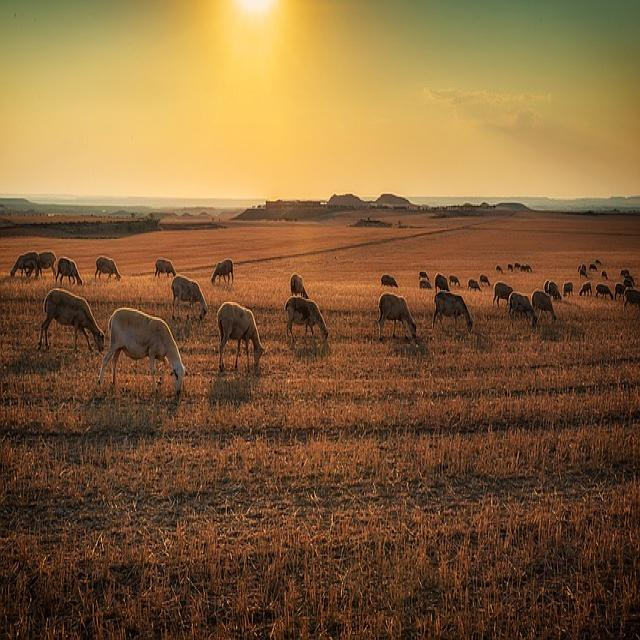goat: (99, 308, 185, 393), (38, 289, 104, 351), (219, 302, 264, 371), (285, 297, 328, 339), (379, 293, 416, 339), (433, 291, 472, 331), (172, 276, 208, 319), (509, 291, 538, 328), (531, 291, 555, 322), (56, 257, 82, 285), (95, 255, 120, 279), (211, 259, 234, 285), (492, 282, 512, 307), (155, 257, 176, 276)
